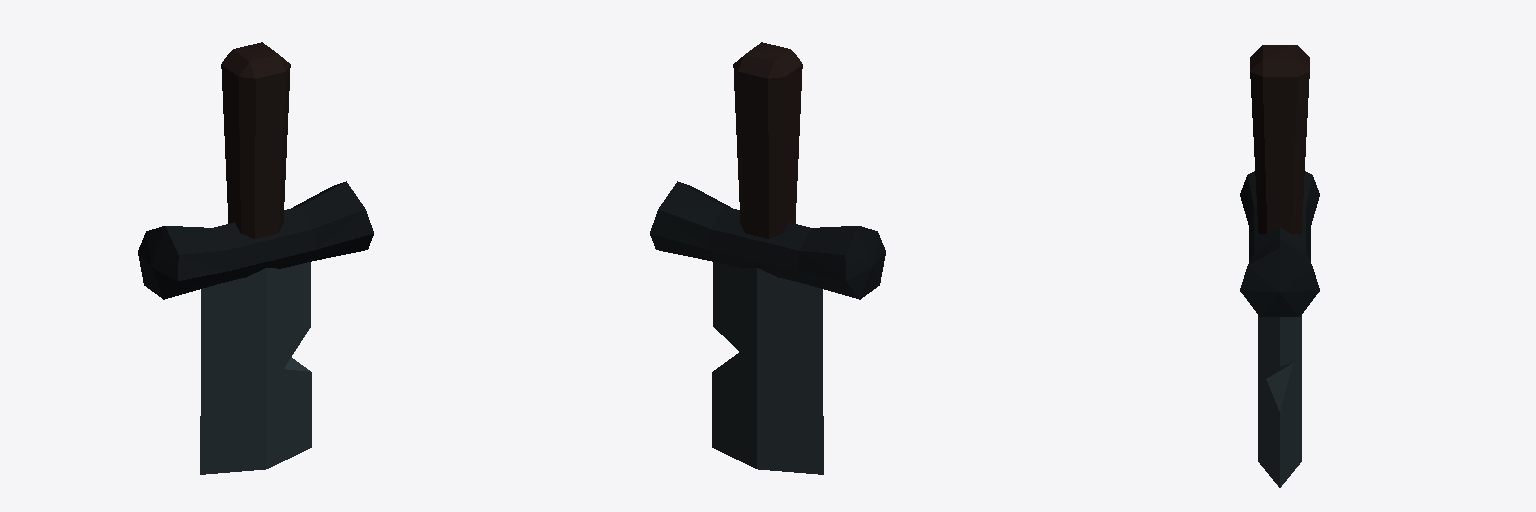
The model's file is sword_broken_half.obj.
3 views of the same model, side by side, from view 1: azimuth 30°, elevation 25°; view 2: azimuth 150°, elevation 25°; view 3: azimuth 270°, elevation 25° (orthographic).
Parts seen in each view (by area): view 1: sword_broken_half_Cube.7749; view 2: sword_broken_half_Cube.7749; view 3: sword_broken_half_Cube.7749.
Part boxes in pixels (left/top/right/bottom): sword_broken_half_Cube.7749: left=138, top=42, right=373, bottom=474; sword_broken_half_Cube.7749: left=650, top=42, right=885, bottom=474; sword_broken_half_Cube.7749: left=1240, top=45, right=1319, bottom=487.
Bounding box in the file's own units: 0.3852 × 0.7244 × 0.1288.